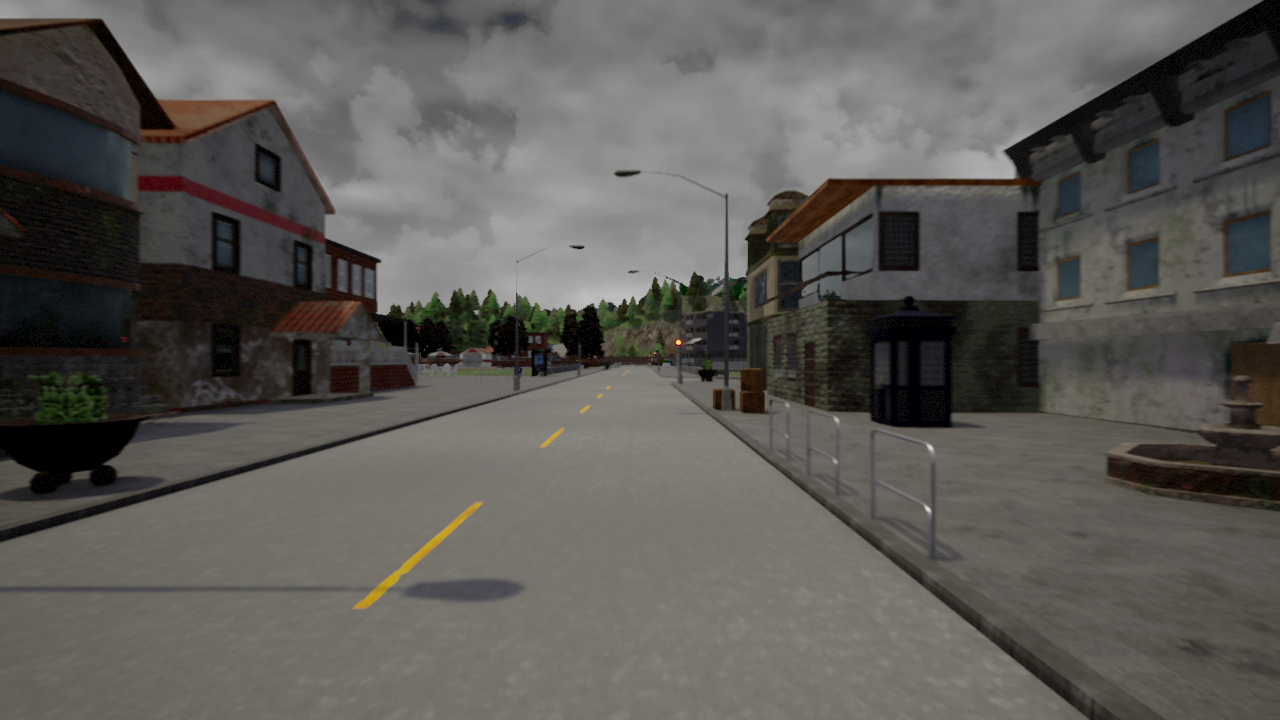red: (675, 338, 681, 355)
